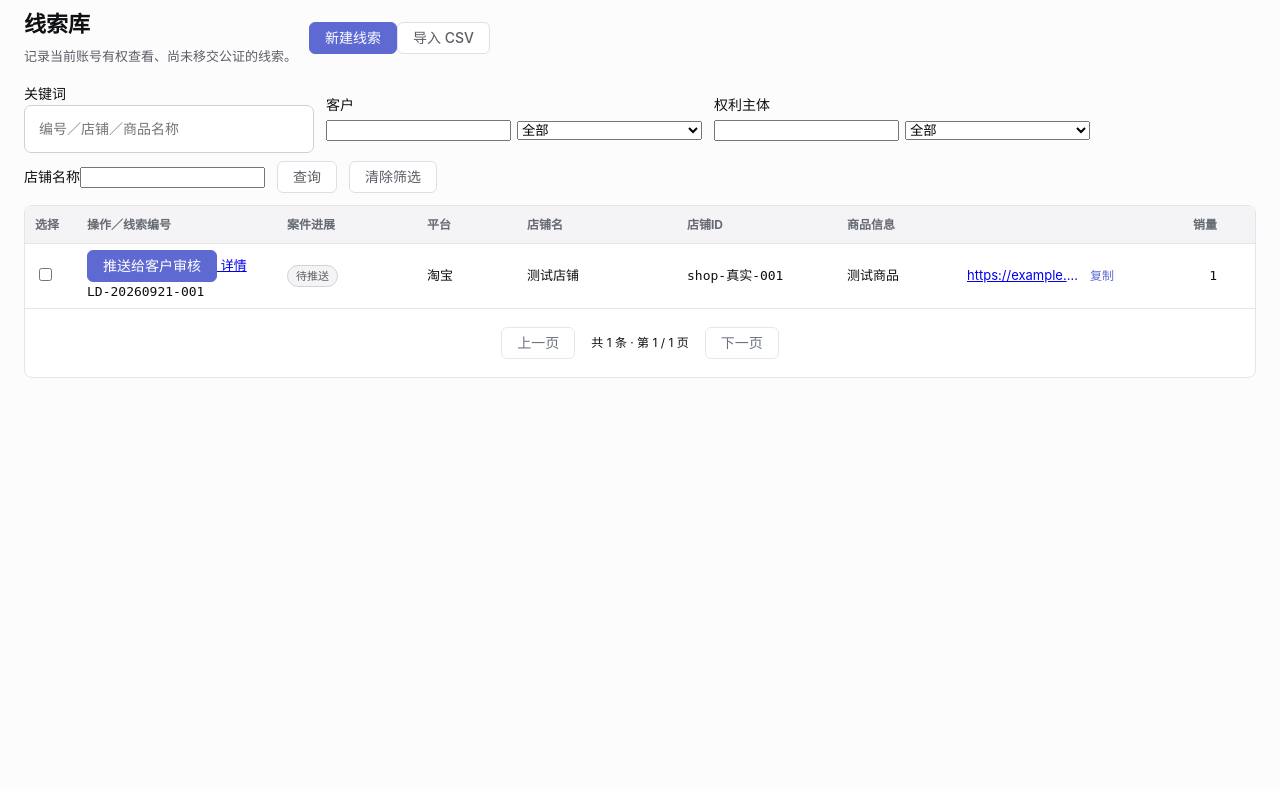
Test: LeadListPage › blocks all other write entries after an unknown no-evidence batch
Click the checkbox named "选择 LD-20260921-001". click: (46, 275)
box: x1=39 y1=268 x2=52 y2=282
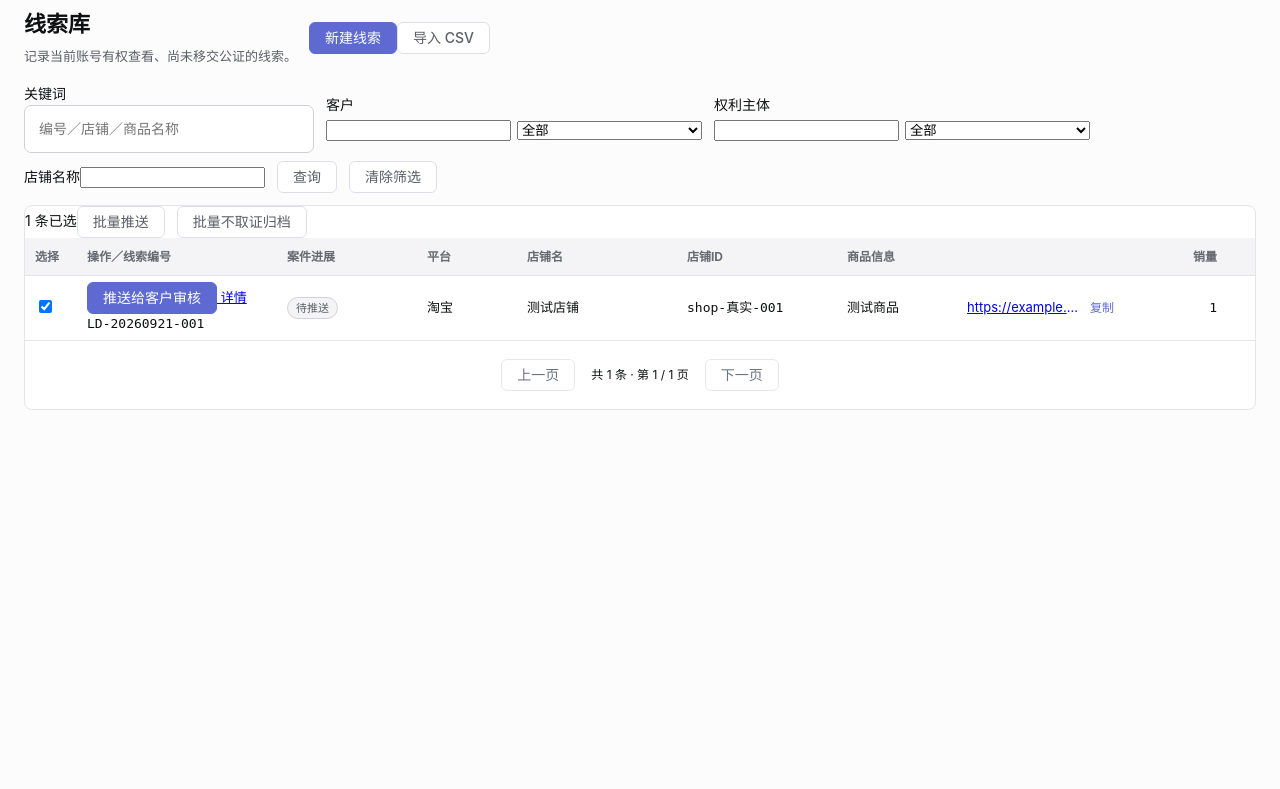
Click the button with test id "open-no-evidence-batch". click: (242, 222)
box: x1=177 y1=206 x2=307 y2=238
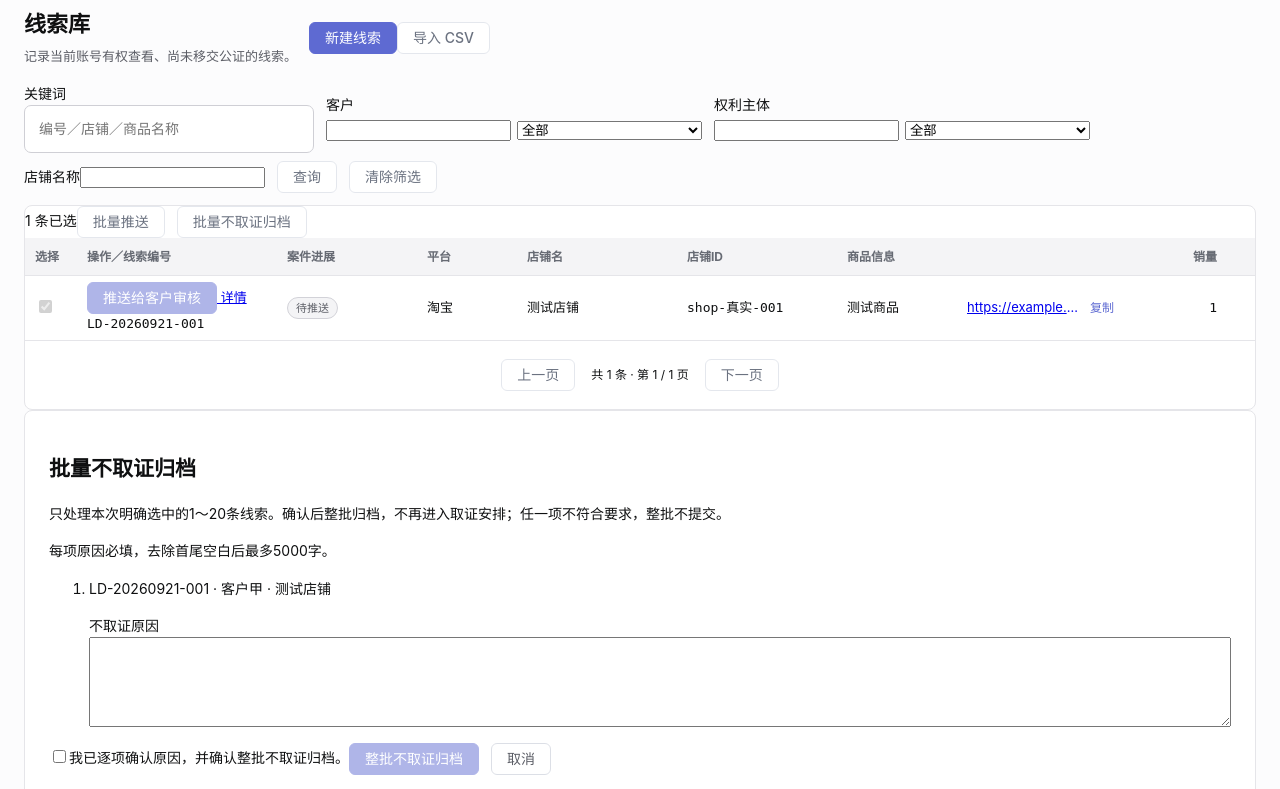
Type "原因" into the text box with test id "no-evidence-reason-0". click: (660, 682)
box: x1=89 y1=637 x2=1231 y2=727
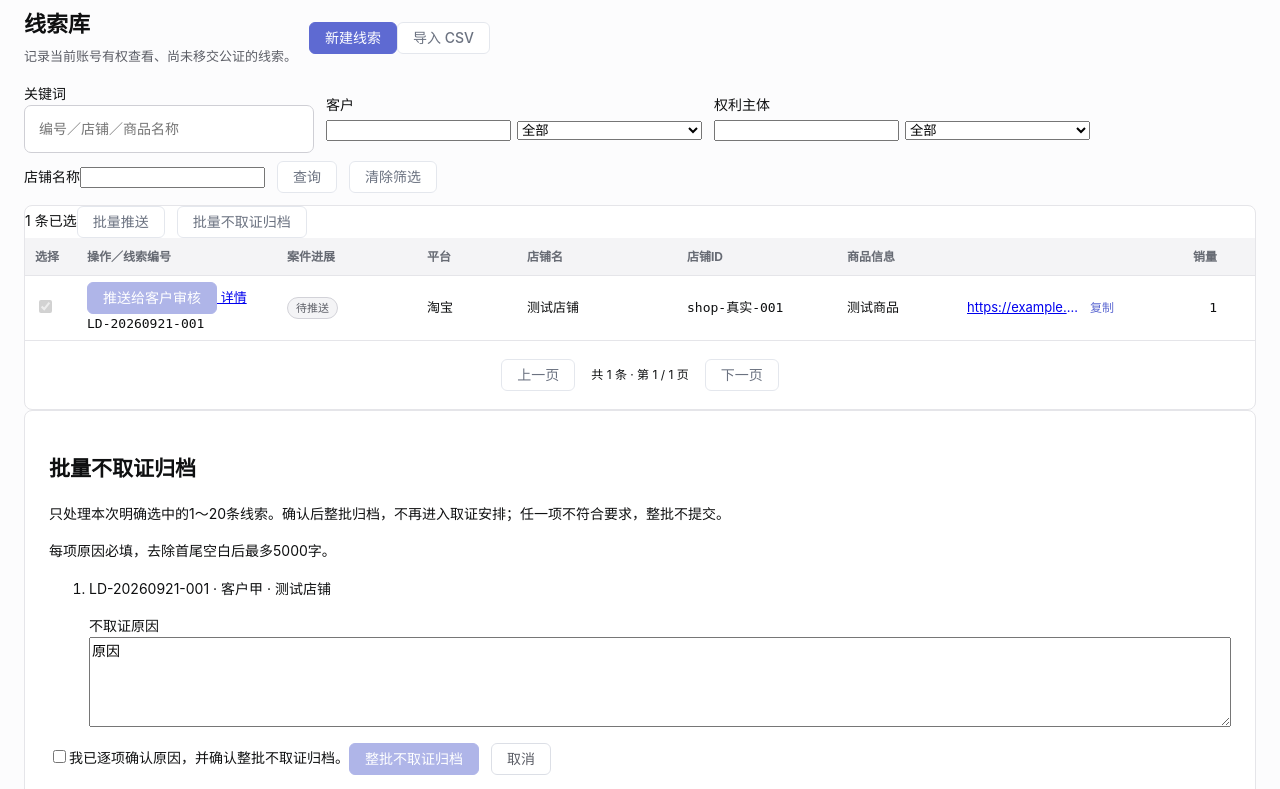
Click the checkbox with test id "no-evidence-confirm". click: (60, 756)
box: x1=53 y1=750 x2=66 y2=763
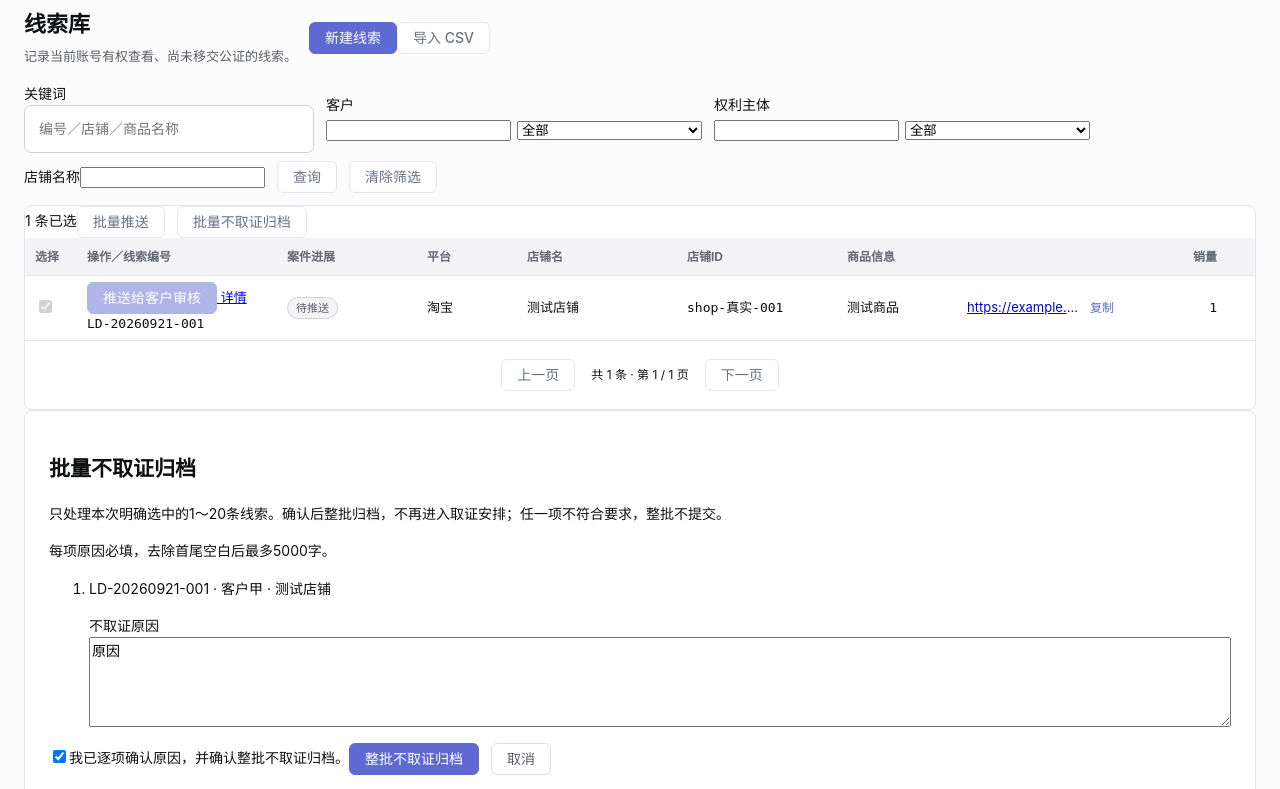
Click the button with test id "no-evidence-submit". click: (414, 759)
box: x1=349 y1=743 x2=479 y2=775
(page scrolled)
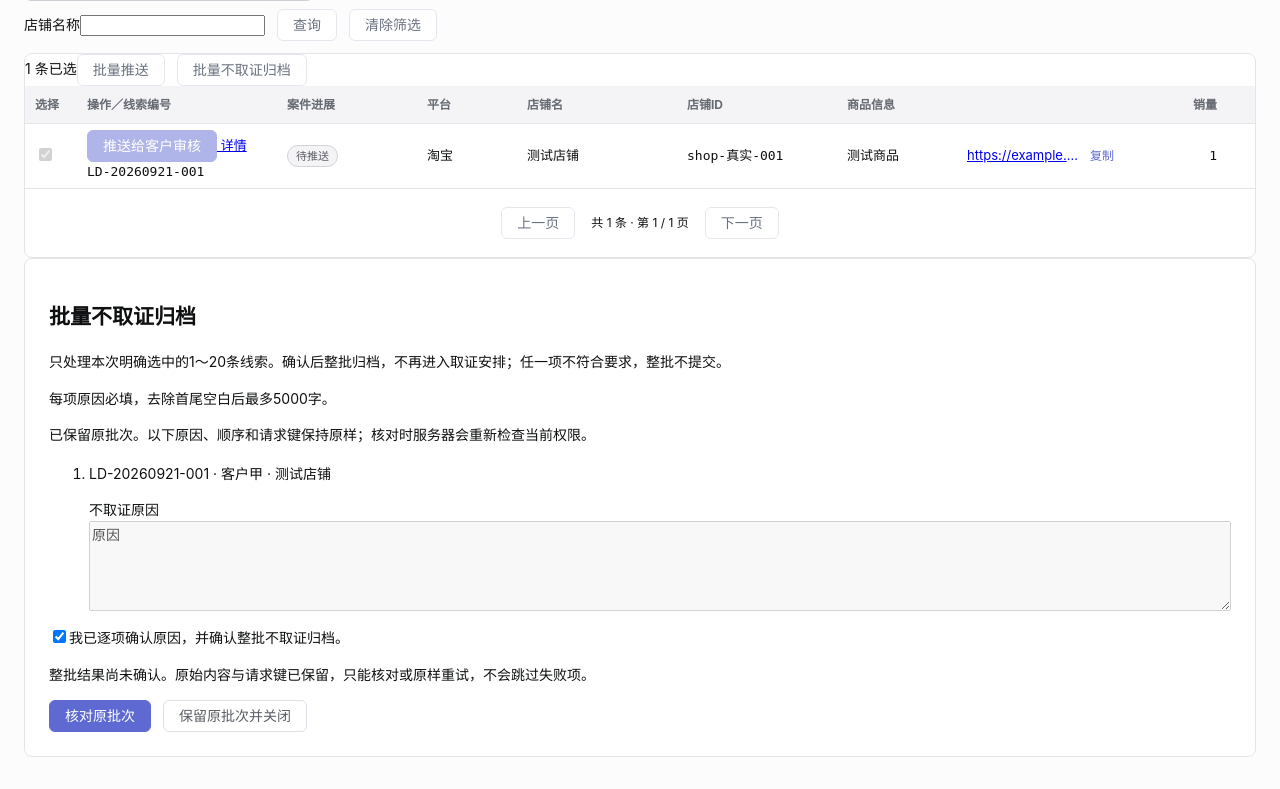
Click the button with test id "no-evidence-close". click: (235, 716)
box: x1=163 y1=700 x2=307 y2=732
(page scrolled)
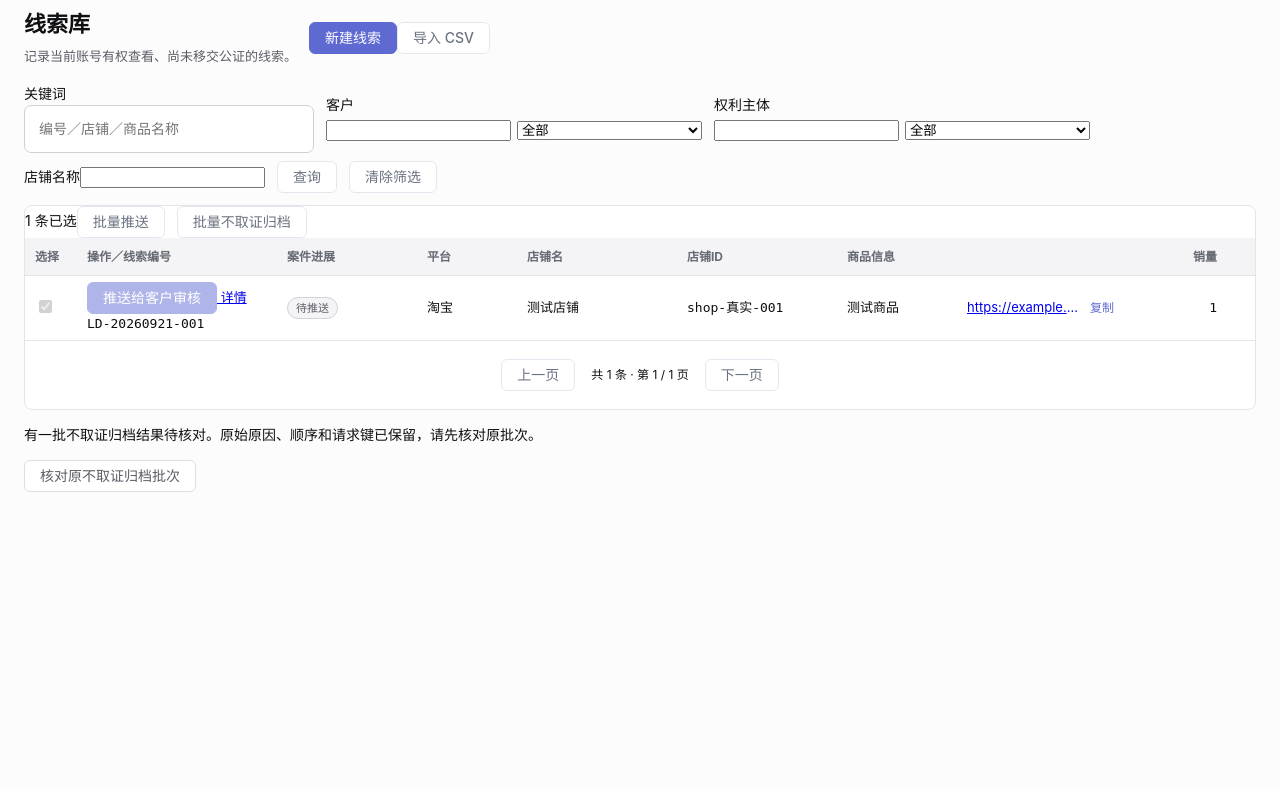
Now the field with test id "lead-query" is disabled, box x1=24 y1=105 x2=314 y2=153
Now the button with test id "lead-search" is disabled, box x1=277 y1=161 x2=337 y2=193
Now the message with test id "pending-no-evidence-batch" shows "原始原因", box x1=24 y1=426 x2=542 y2=443
